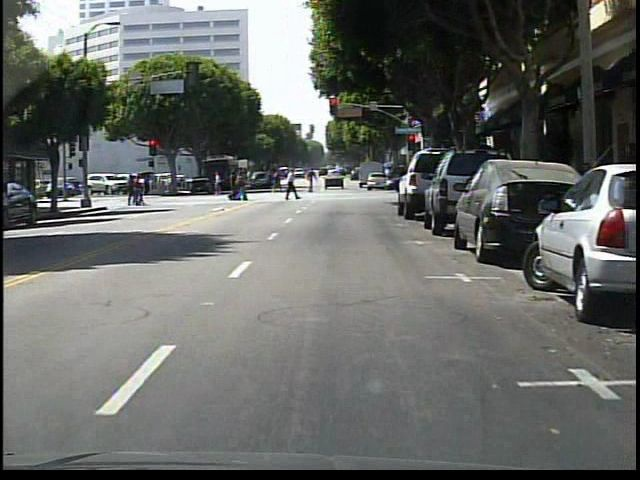person: (280, 166, 301, 204), (207, 166, 226, 197), (301, 167, 320, 196)
